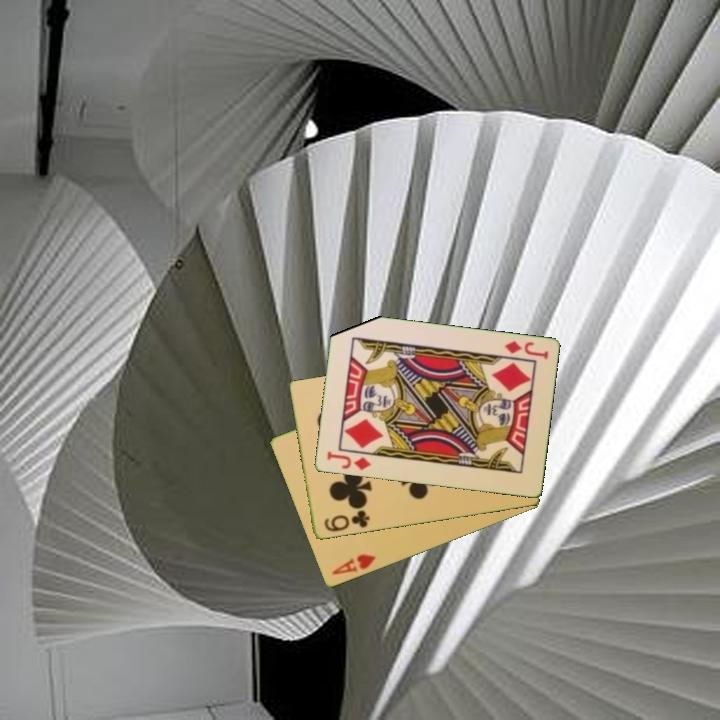6c: (321, 507, 372, 535)
Ah: (328, 551, 379, 578)
Jd: (323, 448, 374, 474), (501, 337, 551, 362)
